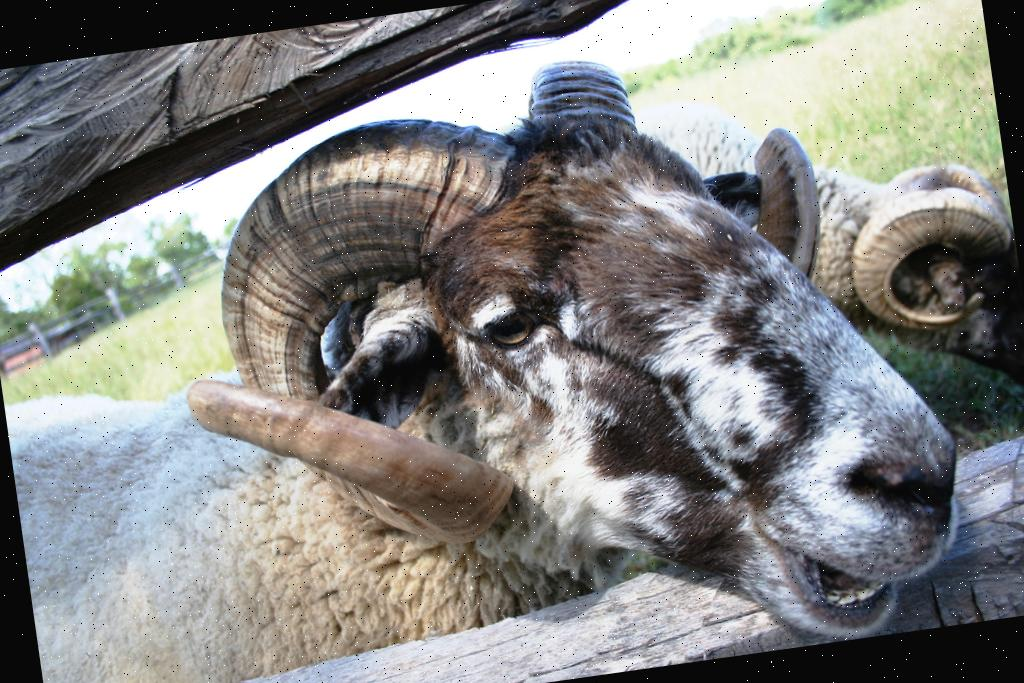Sheep: (0, 10, 983, 683), (631, 51, 1024, 431)
